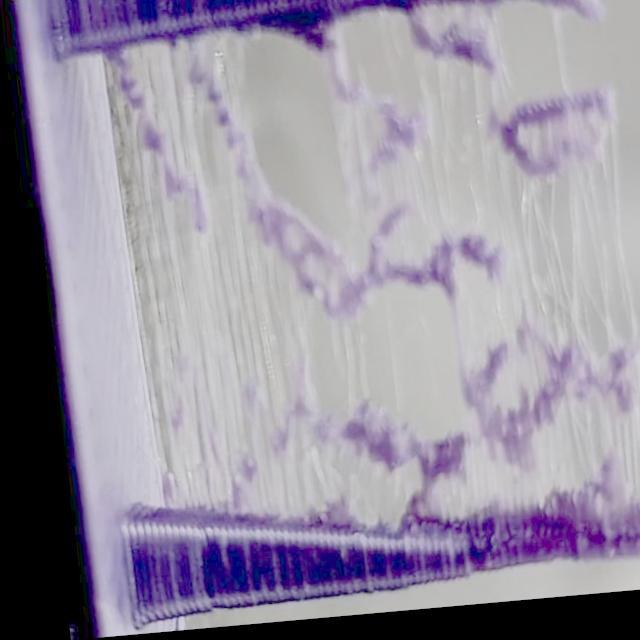stringing: (95, 0, 640, 561)
